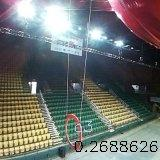Orange_Circle_GShape: (64, 114, 82, 150)
